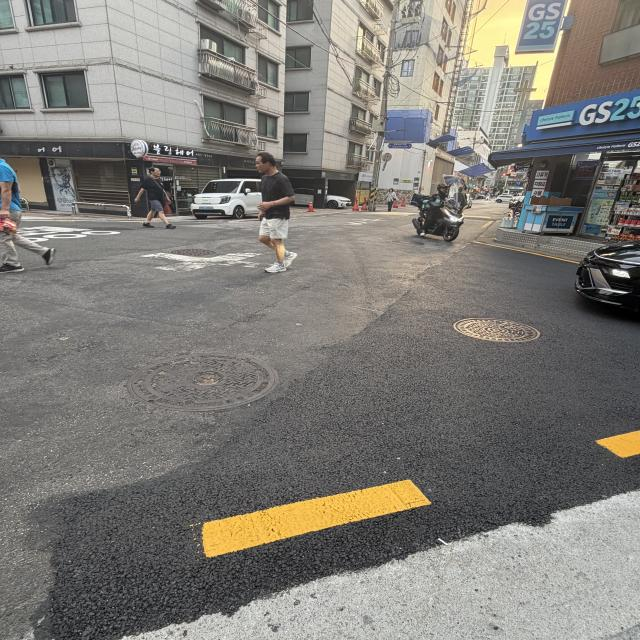car: (176, 167, 295, 231)
motorcycle: (397, 158, 479, 255)
